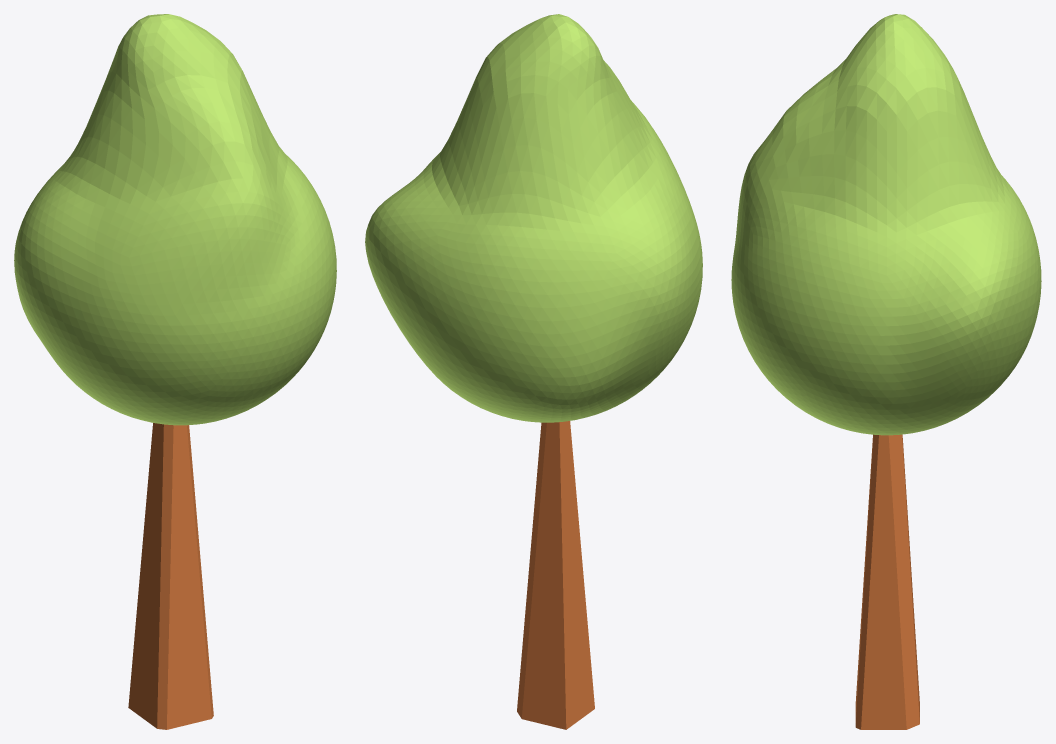
File: tree2.glb
3 renders of one model, left to right at view 1: azimuth 30°, elevation 25°; view 2: azimuth 150°, elevation 25°; view 3: azimuth 270°, elevation 25°, orthographic.
Parts seen in each view (by area): view 1: Icosphere, Cube; view 2: Icosphere, Cube; view 3: Icosphere, Cube.
Boxes of the visible parts, box(x1,y1,x2,y2) form: Icosphere: box(14, 14, 336, 425); Cube: box(128, 423, 213, 729); Icosphere: box(365, 14, 702, 422); Cube: box(517, 421, 594, 729); Icosphere: box(731, 14, 1041, 435); Cube: box(855, 434, 919, 729).
Size of the model in its own units: 2.7 by 6.32 by 2.55.
